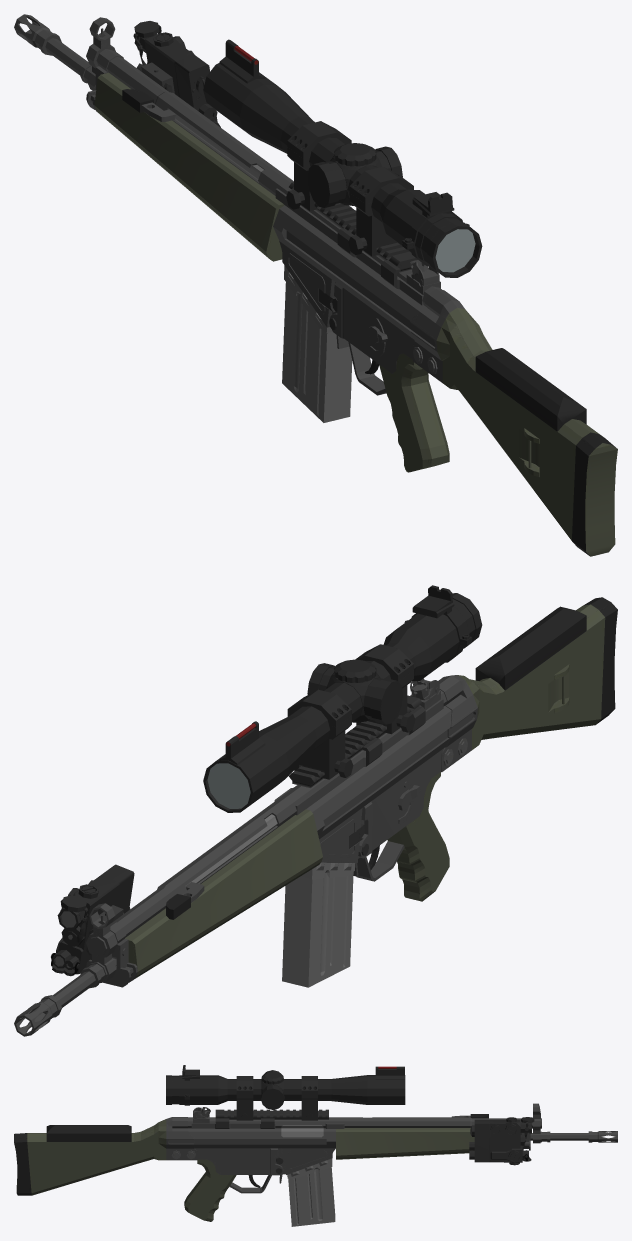
The picture shows the model from 3 angles, top to bottom: view 1: azimuth 30°, elevation 25°; view 2: azimuth 150°, elevation 25°; view 3: azimuth 270°, elevation 25°; orthographic projection. The views are drawn at different scales.
Visible parts, largest first — view 1: Stock_Full_Rifle, body, Handguard_Wide, Scope_Kahlia, mag_piece, Pistol_Grip, Stock_Cheek_Rest, PEQ_15A_Body, Barrel_G3, Dial_Left, Piccatiny_Rail_Top, Glass (+9 smaller); view 2: body, Stock_Full_Rifle, Handguard_Wide, Scope_Kahlia, mag_piece, Stock_Cheek_Rest, Pistol_Grip, PEQ_15A_Body, Barrel_G3, Piccatiny_Rail_Top, Glass, Dial_Left (+11 smaller); view 3: body, Stock_Full_Rifle, Scope_Kahlia, Handguard_Wide, mag_piece, PEQ_15A_Body, Pistol_Grip, Stock_Cheek_Rest, Piccatiny_Rail_Top, Barrel_G3, ejection_port_G3, Dial_Right (+8 smaller).
Boxes of the visible parts, left/top/right/bottom form: Stock_Full_Rifle: left=410, top=289, right=617, bottom=556; body: left=96, top=49, right=441, bottom=373; Handguard_Wide: left=94, top=72, right=284, bottom=261; Scope_Kahlia: left=203, top=63, right=482, bottom=277; mag_piece: left=282, top=265, right=352, bottom=422; Pistol_Grip: left=379, top=353, right=449, bottom=472; Stock_Cheek_Rest: left=475, top=348, right=586, bottom=431; PEQ_15A_Body: left=141, top=32, right=217, bottom=122; Barrel_G3: left=14, top=14, right=91, bottom=83; Dial_Left: left=307, top=161, right=346, bottom=207; Piccatiny_Rail_Top: left=289, top=182, right=417, bottom=271; Glass: left=435, top=229, right=475, bottom=272; body: left=87, top=690, right=451, bottom=956; Stock_Full_Rifle: left=438, top=597, right=617, bottom=772; Handguard_Wide: left=125, top=809, right=322, bottom=978; Scope_Kahlia: left=203, top=593, right=482, bottom=812; mag_piece: left=282, top=862, right=355, bottom=987; Stock_Cheek_Rest: left=475, top=606, right=586, bottom=690; Pistol_Grip: left=387, top=772, right=449, bottom=901; PEQ_15A_Body: left=56, top=864, right=134, bottom=974; Barrel_G3: left=14, top=958, right=116, bottom=1036; Piccatiny_Rail_Top: left=289, top=695, right=422, bottom=787; Glass: left=207, top=763, right=250, bottom=808; Dial_Left: left=363, top=678, right=402, bottom=724; body: left=188, top=1117, right=541, bottom=1175; Stock_Full_Rifle: left=14, top=1117, right=197, bottom=1195; Scope_Kahlia: left=166, top=1075, right=405, bottom=1104; Handguard_Wide: left=336, top=1128, right=474, bottom=1159; mag_piece: left=287, top=1158, right=335, bottom=1226; PEQ_15A_Body: left=474, top=1117, right=522, bottom=1165; Pistol_Grip: left=184, top=1159, right=236, bottom=1221; Stock_Cheek_Rest: left=46, top=1125, right=131, bottom=1141; Piccatiny_Rail_Top: left=215, top=1109, right=328, bottom=1119; Barrel_G3: left=530, top=1131, right=617, bottom=1142; ejection_port_G3: left=281, top=1125, right=323, bottom=1137; Dial_Right: left=261, top=1084, right=284, bottom=1109.
Size of the model in its own units: 0.0384 by 0.1111 by 0.3876.
8 materials, 8 textured.
